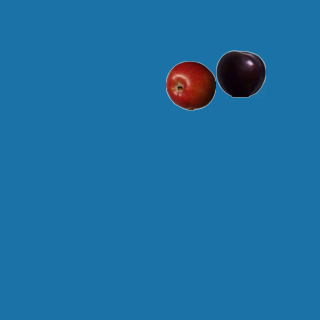Apple Braeburn: (165, 60, 215, 110)
Cherry Wax Black: (215, 48, 265, 98)
